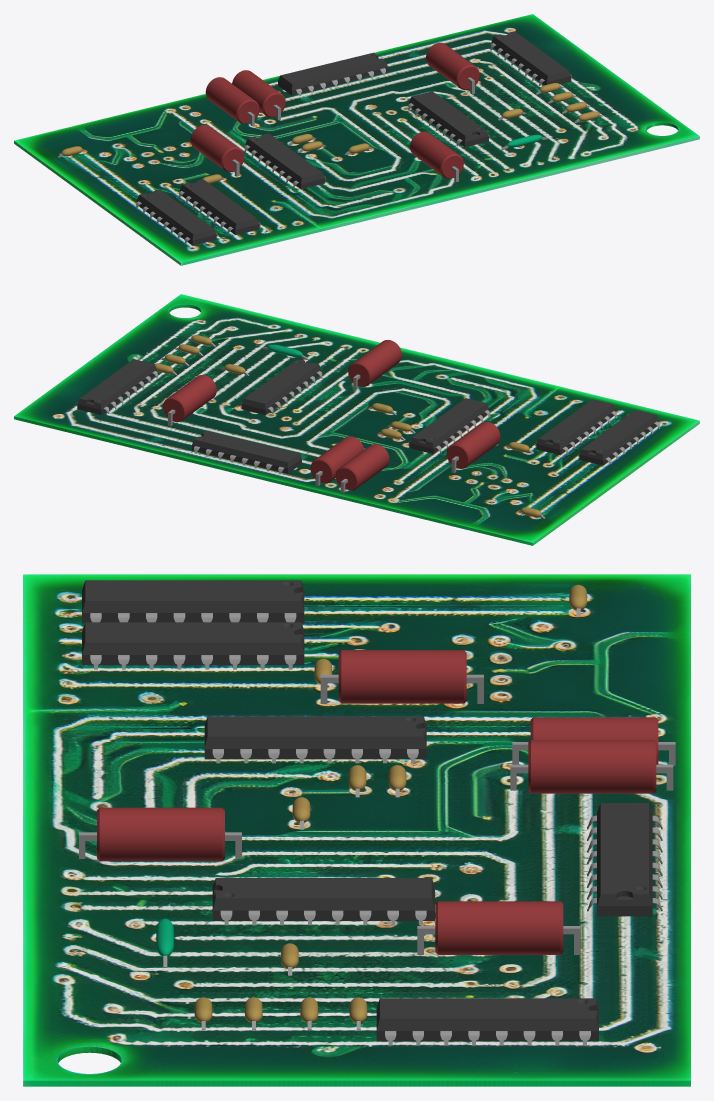
File: computer part.fbx
3 views of the same model, one above another, from view 1: azimuth 30°, elevation 25°; view 2: azimuth 150°, elevation 25°; view 3: azimuth 270°, elevation 25° (orthographic). The views are drawn at different scales.
Visible parts, largest first — view 1: Plane.001, cube1.001, cube1, cube1.005, cube1.002, cube1.003, cube1.004, Cylinder.002, Cylinder.004, Cylinder, Cylinder.001, Cylinder.003; view 2: Plane.001, cube1.001, cube1.005, cube1.003, cube1.004, cube1.002, cube1, Cylinder.002, Cylinder.004, Cylinder, Cylinder.001, Cylinder.003; view 3: Plane.001, cube1.004, cube1.003, cube1.005, cube1, cube1.002, Cylinder.002, Cylinder, Cylinder.003, Cylinder.004, cube1.001, Cylinder.001.
Part boxes in pixels (x1,y1,x2,y2): Plane.001: (14,14,699,265); cube1.001: (278,52,388,96); cube1: (408,91,489,147); cube1.005: (244,133,326,189); cube1.002: (136,189,217,245); cube1.003: (178,179,260,234); cube1.004: (490,31,572,85); Cylinder.002: (190,125,244,176); Cylinder.004: (426,42,479,94); Cylinder: (410,131,463,181); Cylinder.001: (205,77,259,125); Cylinder.003: (232,70,285,120); Plane.001: (14,294,699,545); cube1.001: (192,430,301,474); cube1.005: (408,398,490,453); cube1.003: (535,399,617,455); cube1.004: (76,359,158,414); cube1.002: (578,409,659,465); cube1: (240,359,322,415); Cylinder.002: (446,421,500,472); Cylinder.004: (163,375,216,426); Cylinder: (348,340,401,389); Cylinder.001: (335,444,389,492); Cylinder.003: (310,436,364,486); Plane.001: (23,574,690,1086); cube1.004: (376,998,598,1045); cube1.003: (82,622,304,669); cube1.005: (204,716,426,763); cube1: (212,878,434,925); cube1.002: (82,580,304,623); Cylinder.002: (320,650,483,703); Cylinder: (79,807,241,861); Cylinder.003: (510,740,673,793); Cylinder.004: (417,901,580,954); cube1.001: (587,803,662,916); Cylinder.001: (512,717,675,765).
Bounding box in the file's own units: 496 × 26.58 × 277.
